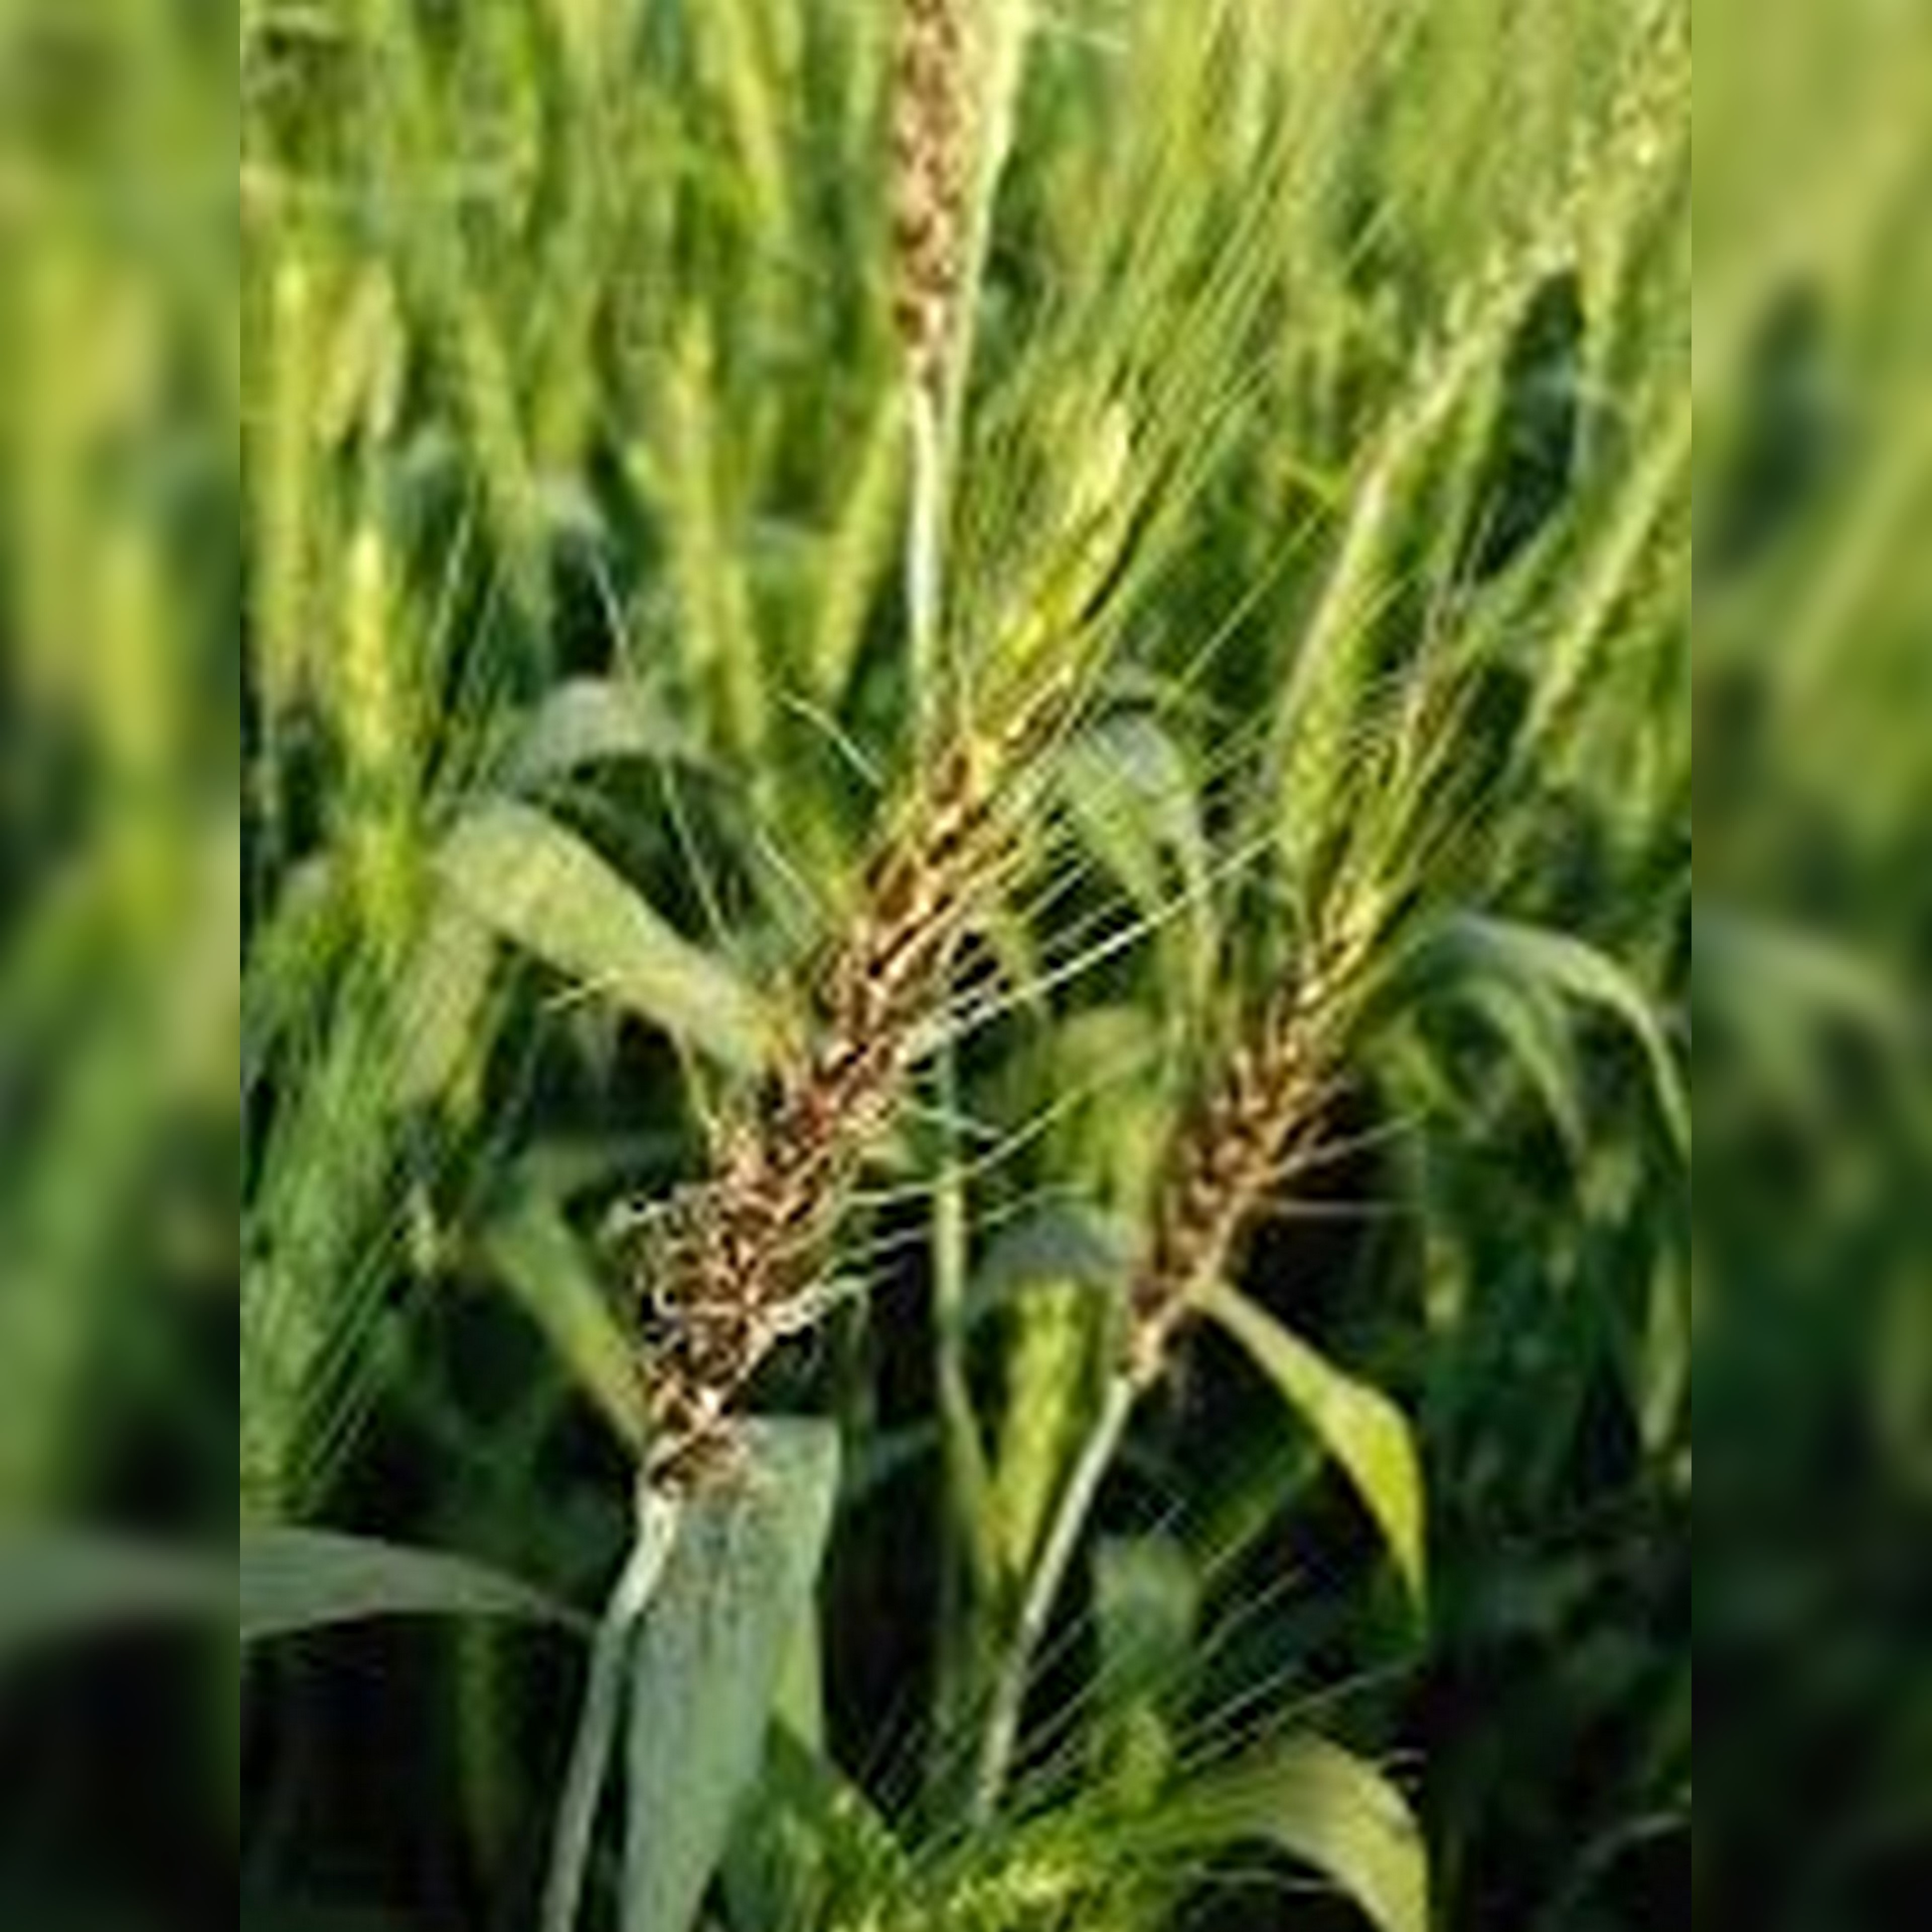Wheat Loose Smut: (653, 701, 1037, 1442)
